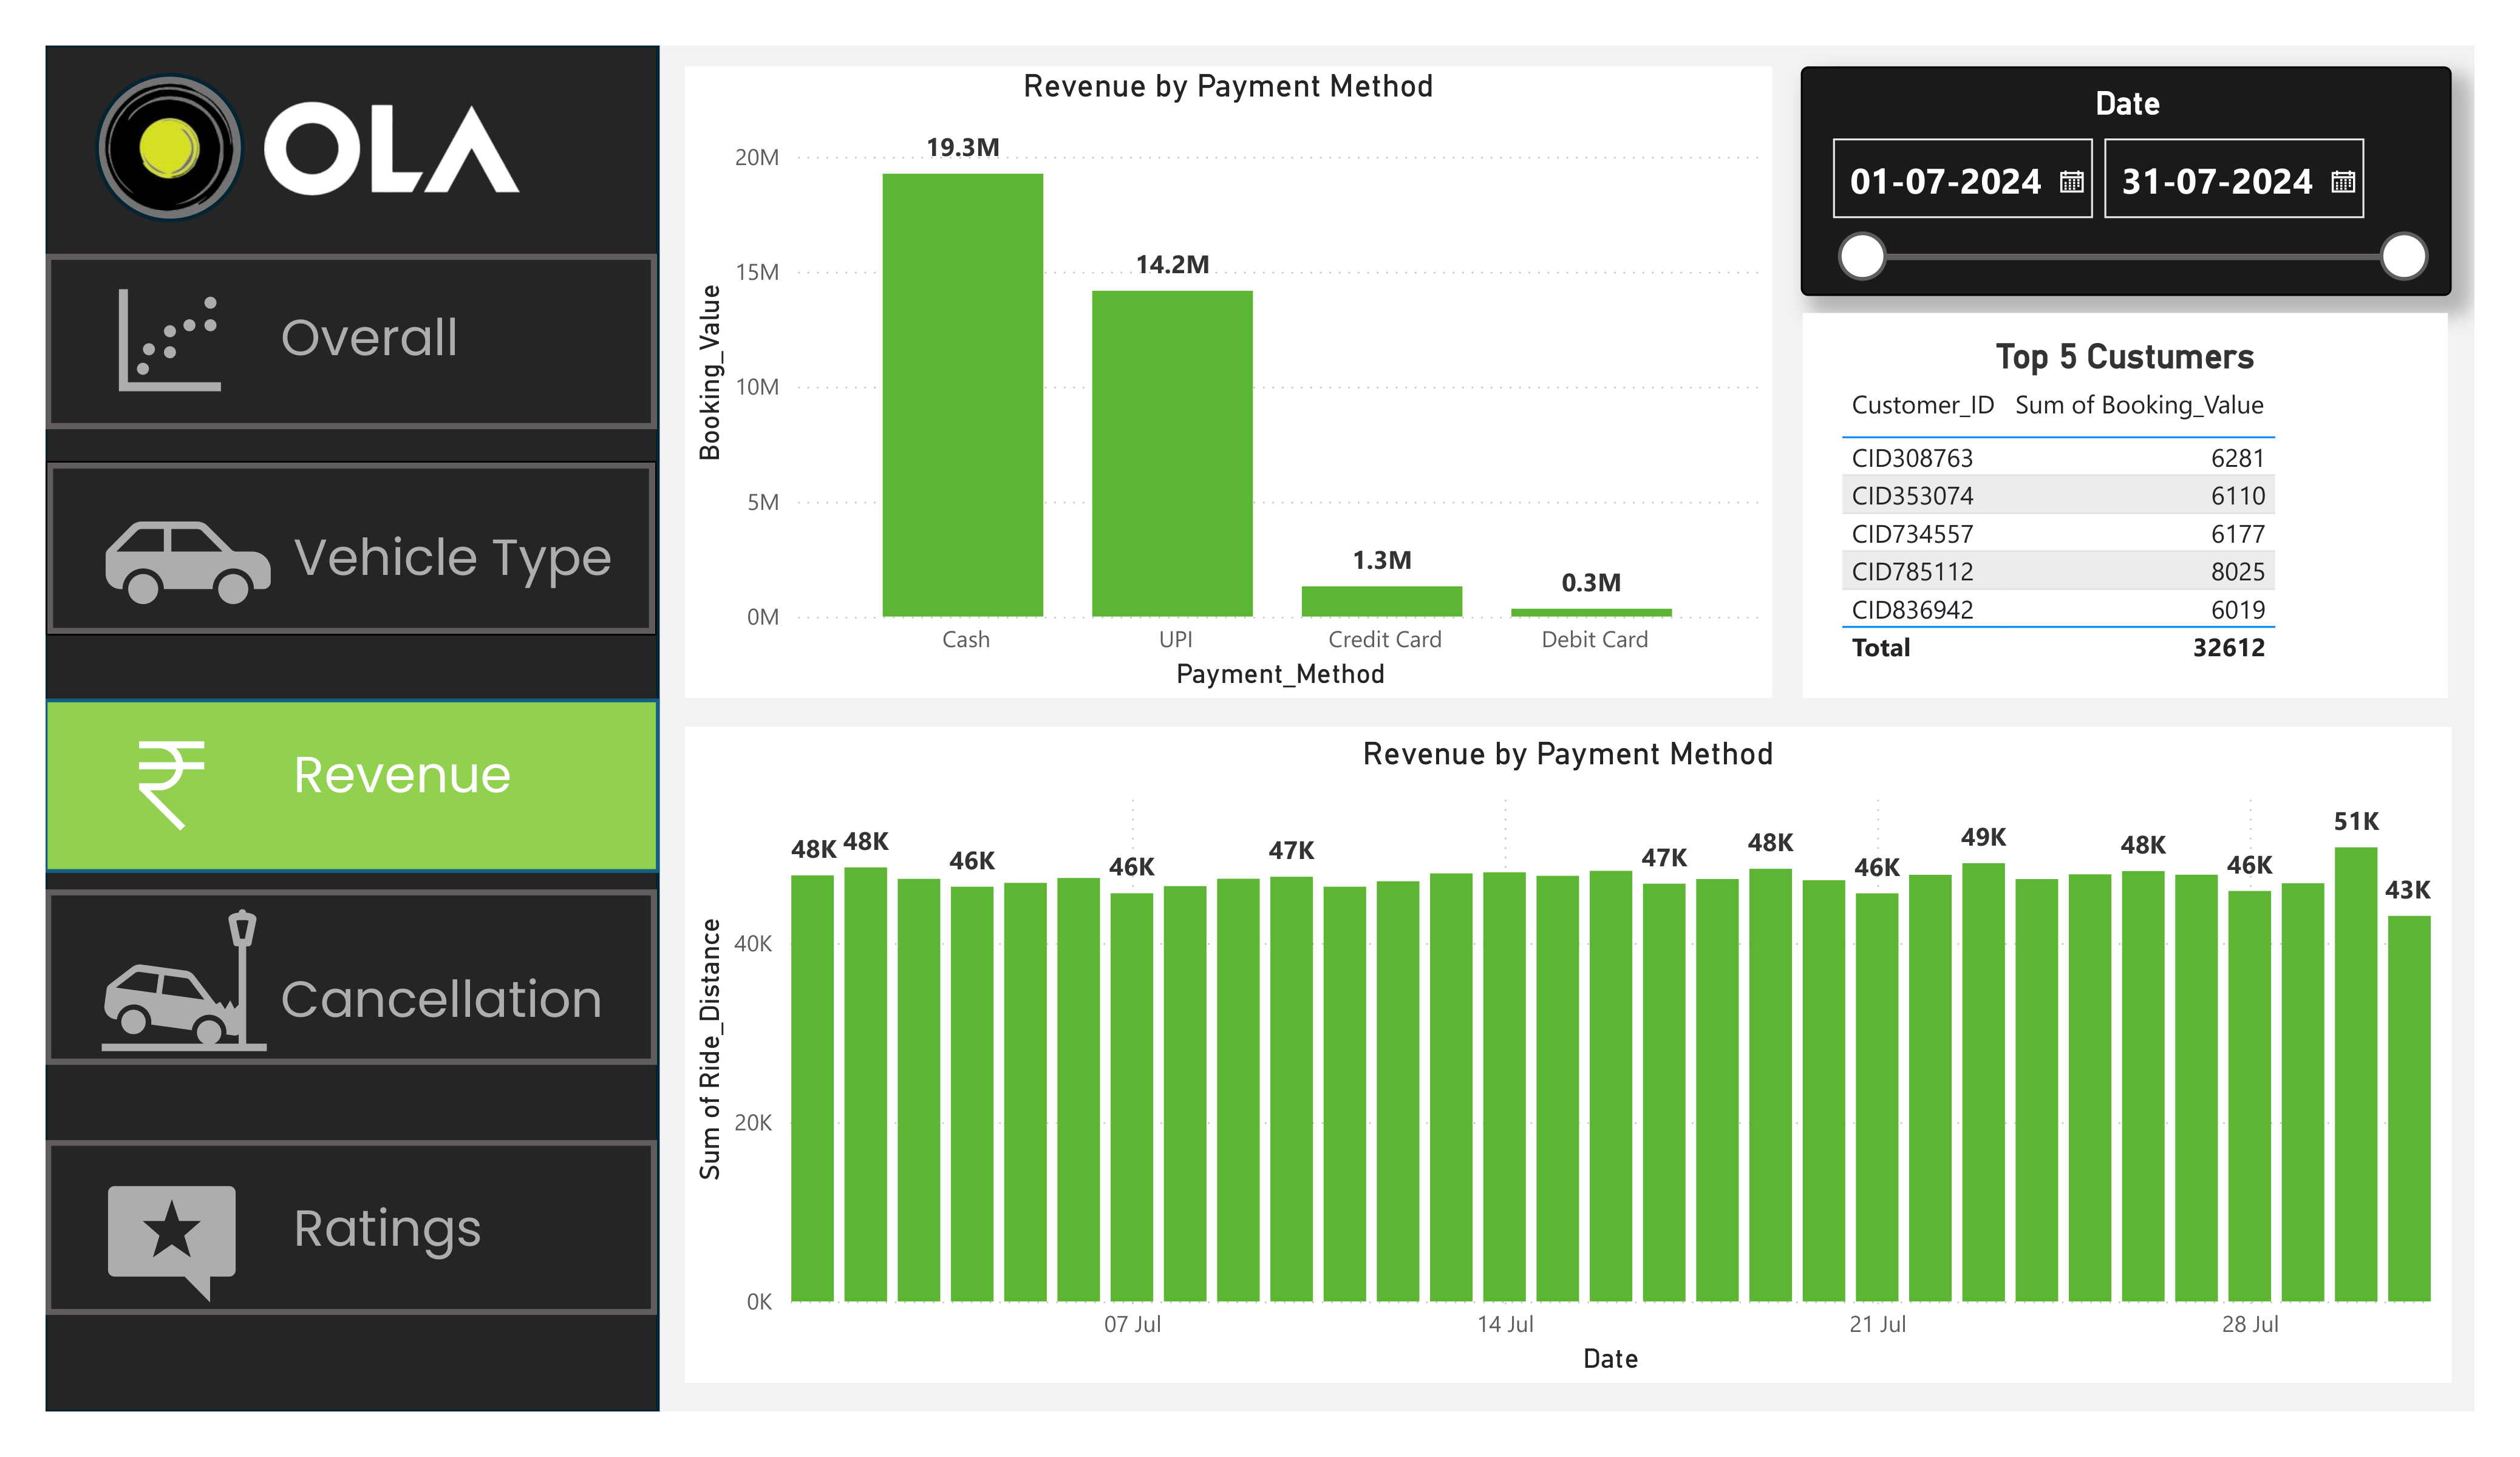

The dashboard page shown, as its layout file describes it:
{"tool":"powerbi","page":{"name":"Revenue","canvas":[1280,720],"ordinal":2},"visuals":[{"type":"actionButton","box":[0,219.2,322.1,92],"z":0},{"type":"actionButton","box":[0,576.5,322.1,92],"z":1000},{"type":"actionButton","box":[0,445.3,322.1,92],"z":2000},{"type":"actionButton","box":[0,109.6,322.1,92],"z":3000},{"type":"columnChart","title":"Revenue by Payment Method","fields":{"Y":["Sum(July.Booking_Value)"],"Category":["July.Payment_Method"]},"box":[336.7,10.6,573.3,333.6],"z":4000},{"type":"columnChart","title":"Revenue by Payment Method","fields":{"Y":["Sum(July.Ride_Distance)"],"Category":["July.Date"]},"box":[336.7,359.4,931.2,345.8],"z":5000},{"type":"slicer","title":"Date","fields":{"Values":["July.Date"]},"box":[925.1,10.6,342.7,121.3],"z":6000},{"type":"tableEx","title":"Top 5 Custumers","fields":{"Values":["July.Customer_ID","Sum(July.Booking_Value)"]},"box":[926,141,340,203.2],"z":7000}]}

Visuals, with their boxes on the page's 1280x720 design canvas (x1, y1, x2, y2). These are canvas units, not pixel positions in the 2520x1457 screenshot, which may show the page scaled, cropped or inside an application window:
actionButton: detection(0, 219, 322, 311)
actionButton: detection(0, 576, 322, 668)
actionButton: detection(0, 445, 322, 537)
actionButton: detection(0, 110, 322, 202)
"Revenue by Payment Method" columnChart: detection(337, 11, 910, 344)
"Revenue by Payment Method" columnChart: detection(337, 359, 1268, 705)
"Date" slicer: detection(925, 11, 1268, 132)
"Top 5 Custumers" tableEx: detection(926, 141, 1266, 344)
